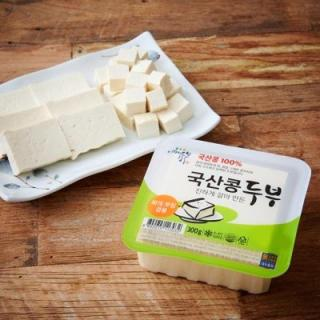Tahu: (2, 46, 198, 187)
